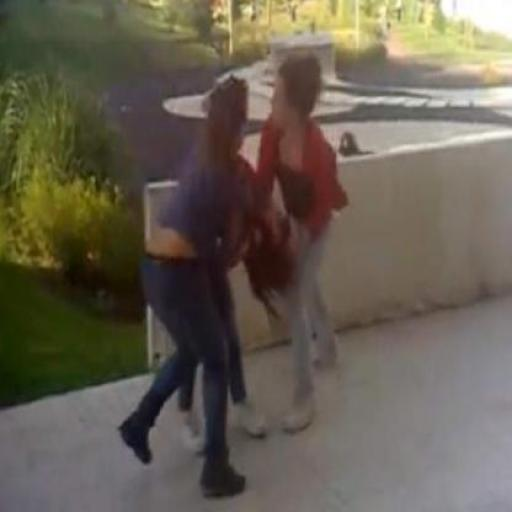Fighting: (121, 53, 338, 512)
